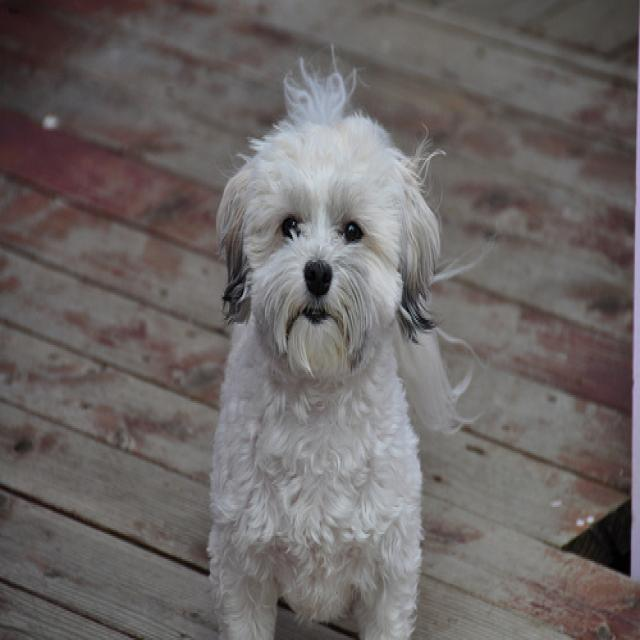dog-havanese: (200, 39, 499, 636)
